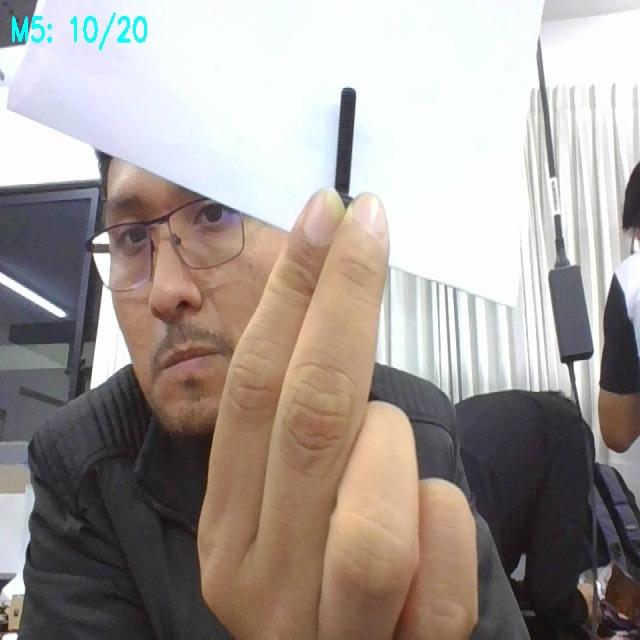vastago: (336, 90, 355, 189)
